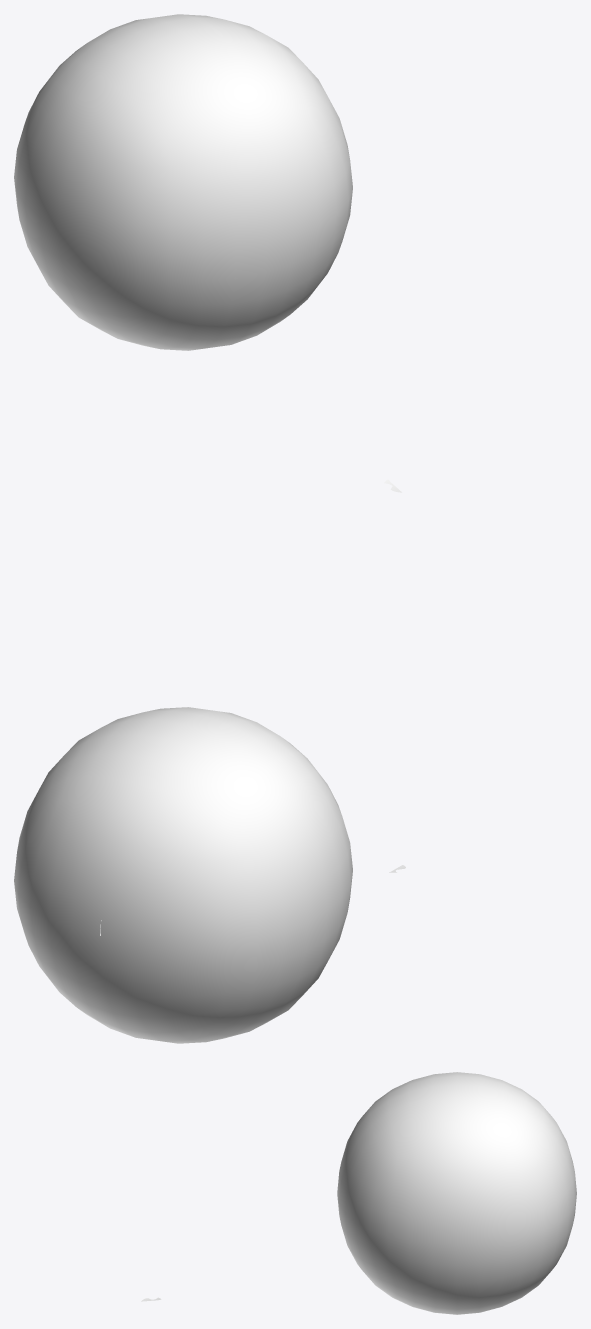
File: spheres.fbx
The picture shows the model from 3 angles, top to bottom: view 1: azimuth 30°, elevation 25°; view 2: azimuth 150°, elevation 25°; view 3: azimuth 270°, elevation 25°; orthographic projection. The views are drawn at different scales.
Visible parts, largest first — view 1: drainSphere; view 2: drainSphere; view 3: drainSphere.
Part boxes in pixels (x1,y1,x2,y2): drainSphere: (14,14,352,350); drainSphere: (14,707,352,1043); drainSphere: (337,1072,576,1314).
Bounding box in the file's own units: 0.1284 × 0.1284 × 0.3014.
